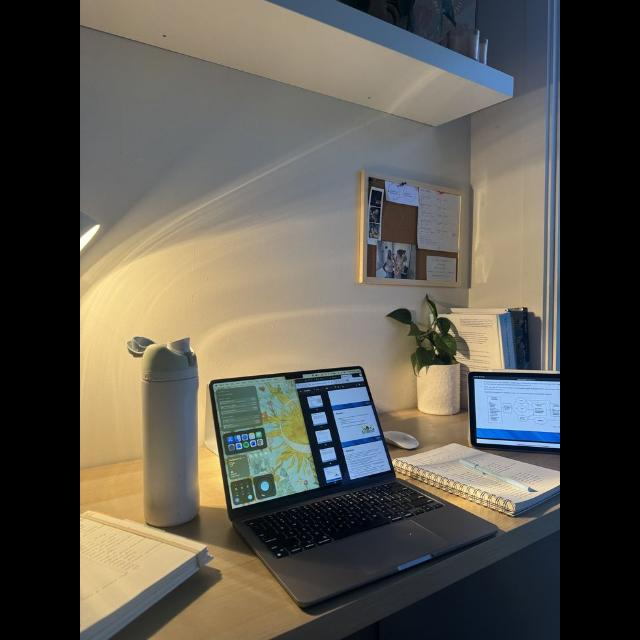laptop: (206, 372, 476, 600), (468, 359, 560, 448)
